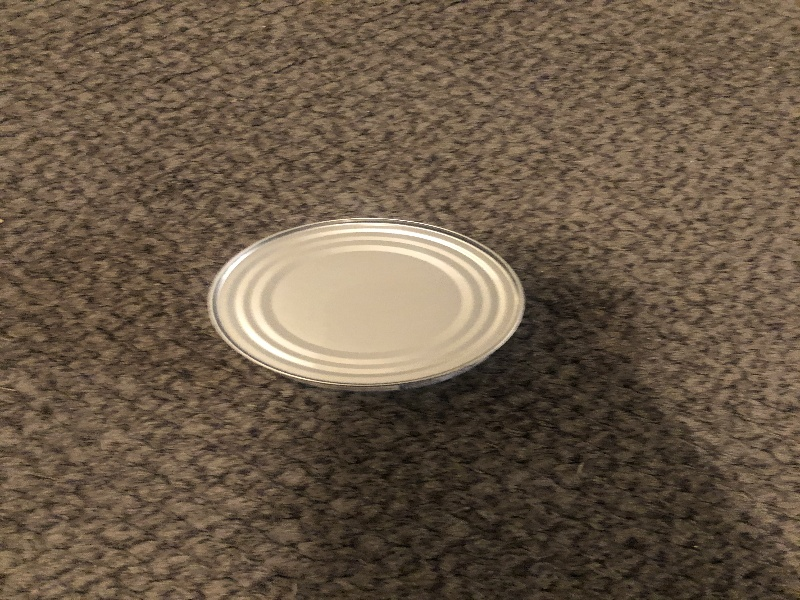metal: (200, 208, 535, 401)
